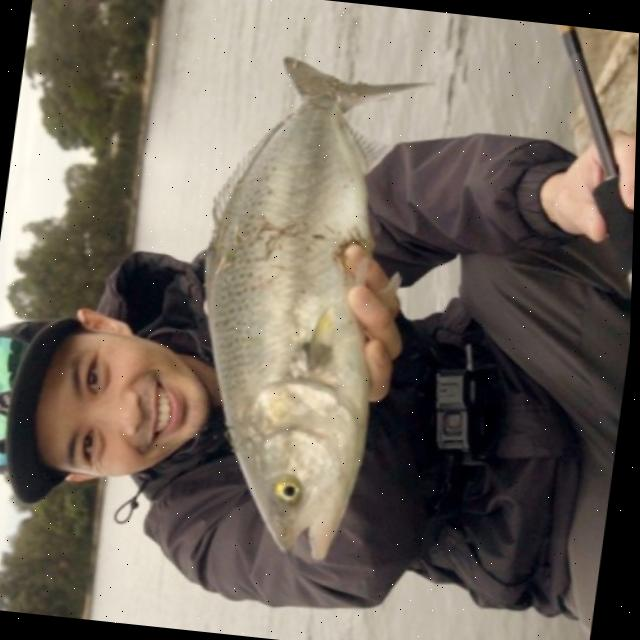Australian Salmon: (159, 37, 454, 572)
